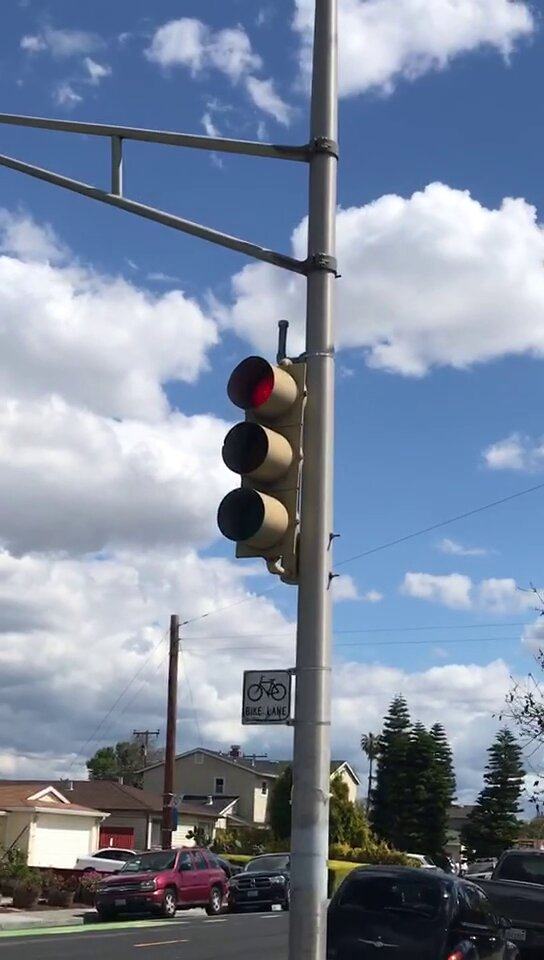red_light: (229, 359, 271, 551)
